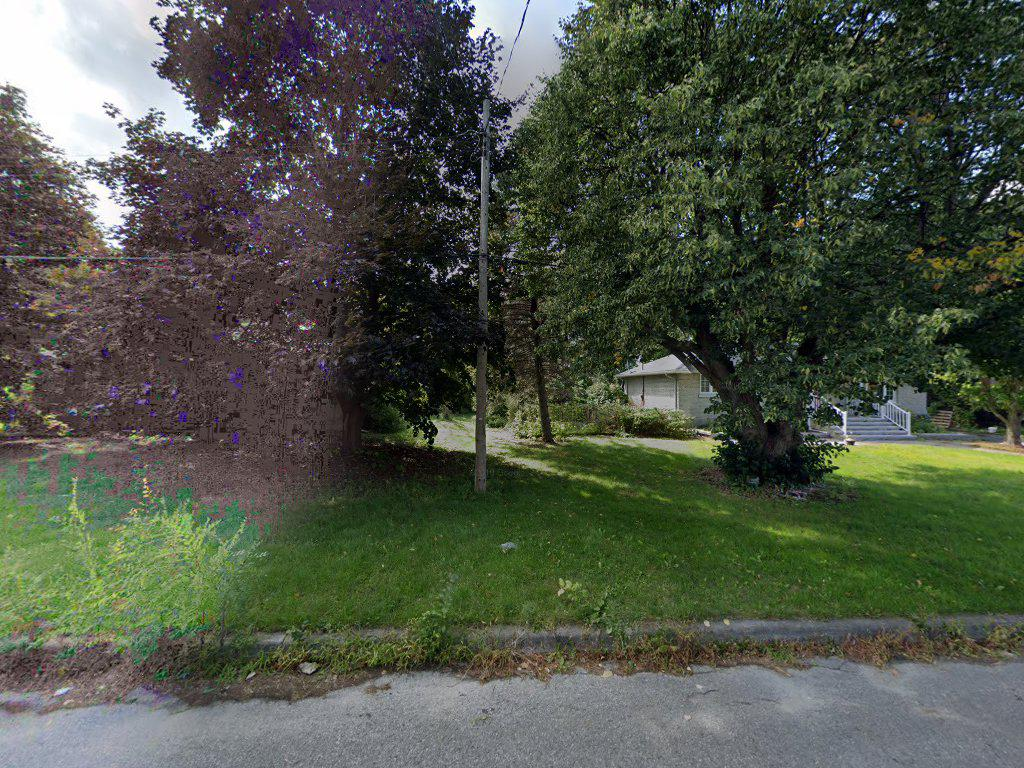trunk: (725, 378, 821, 479)
